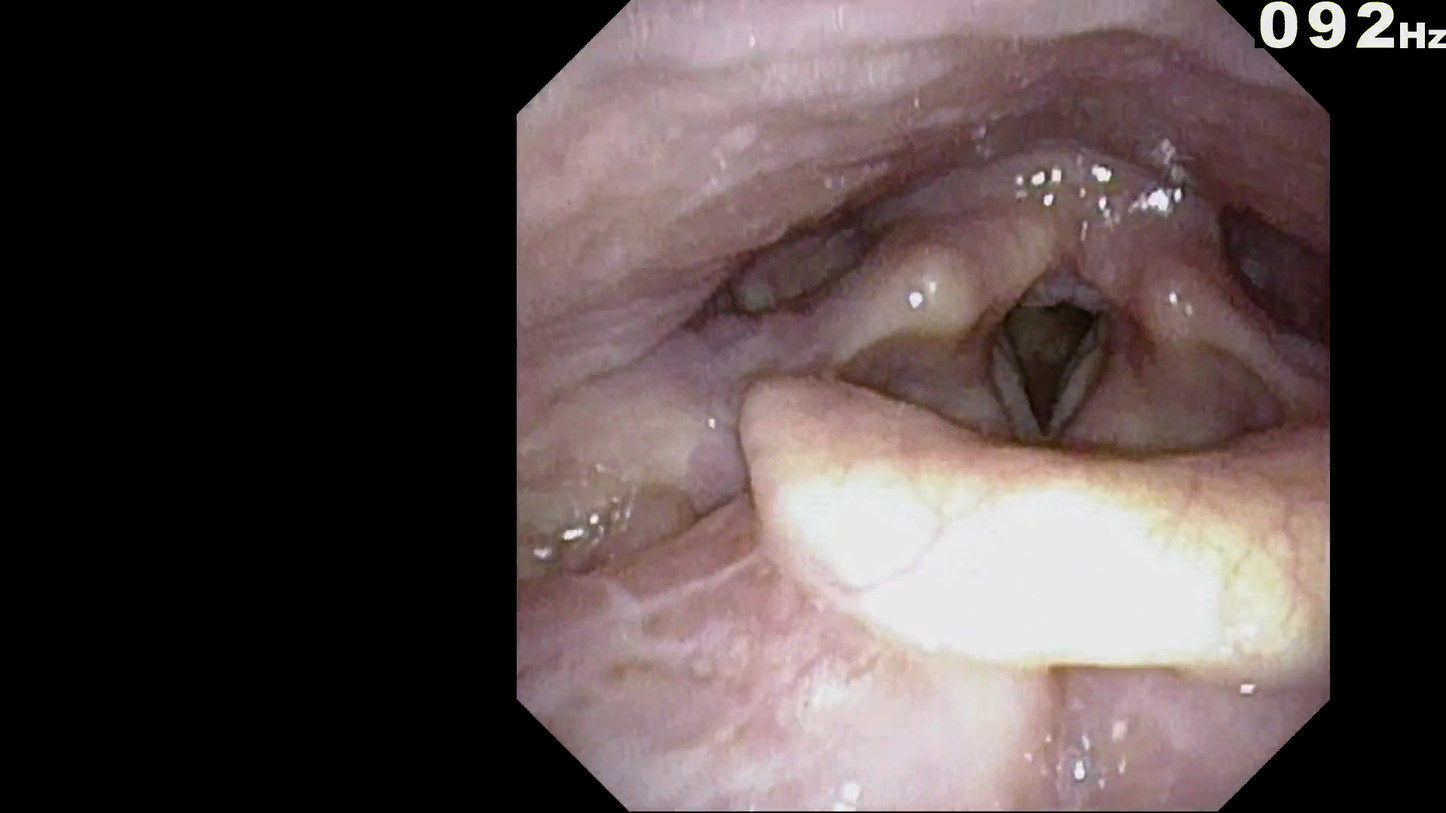epiglottis: (692, 349, 1324, 657)
trachea: (944, 260, 1124, 471)
